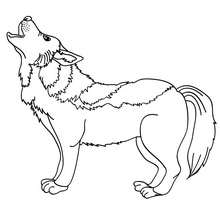Lobo: (3, 11, 218, 202)
